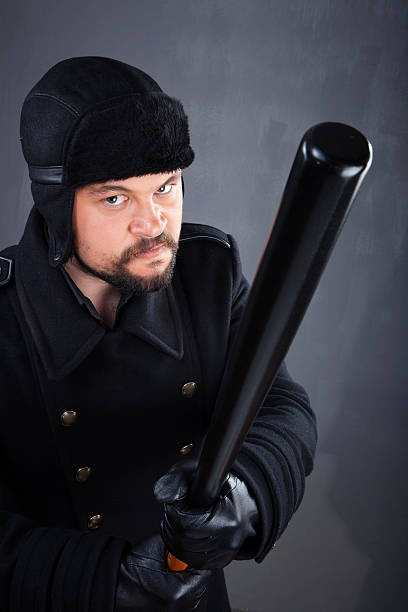bita: (183, 114, 372, 550)
